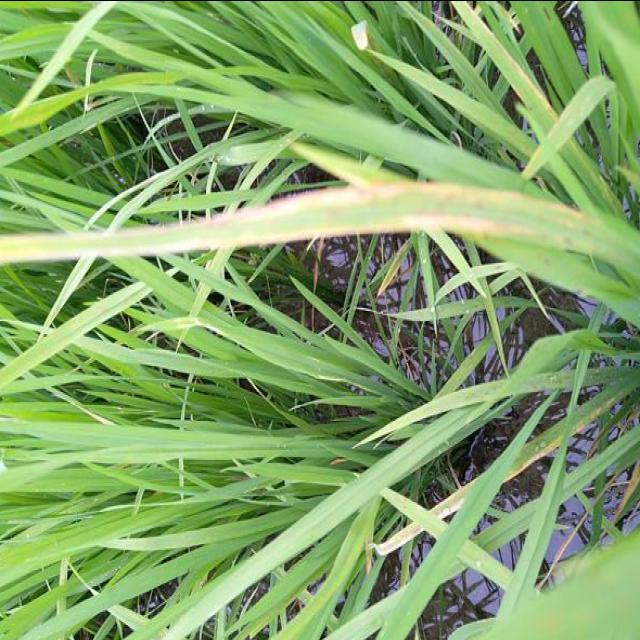Leaf Blight: (0, 184, 640, 272), (504, 417, 567, 482), (377, 521, 425, 556), (433, 481, 476, 518), (572, 398, 603, 436)
